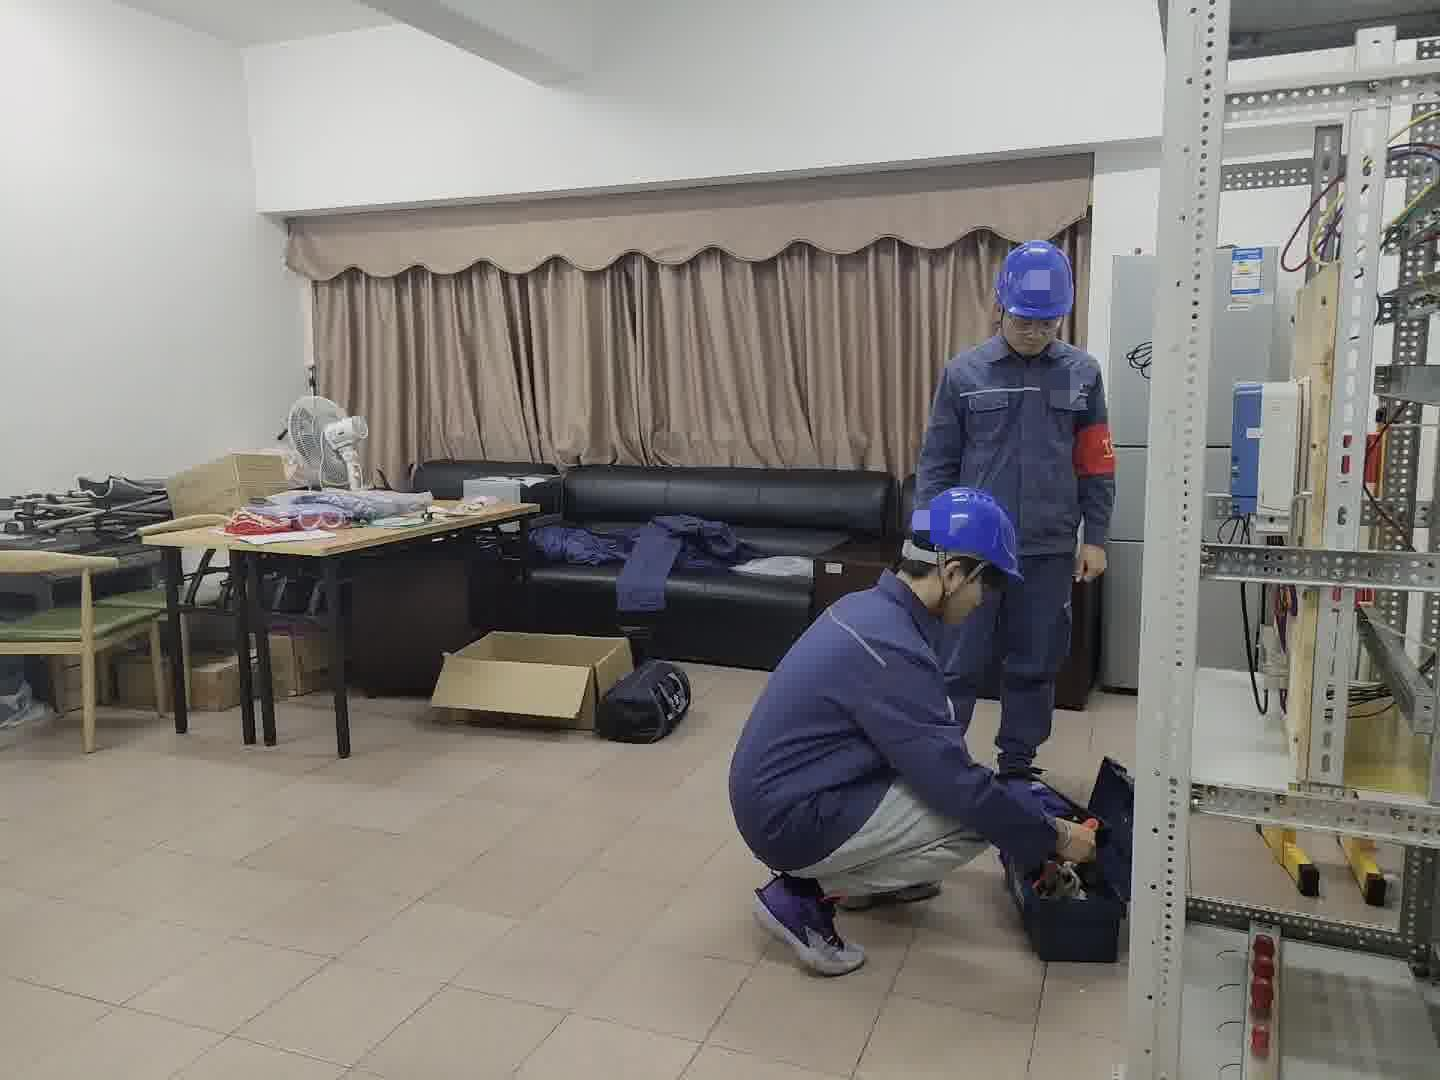halt: (996, 241, 1079, 351)
inear: (932, 556, 989, 611)
